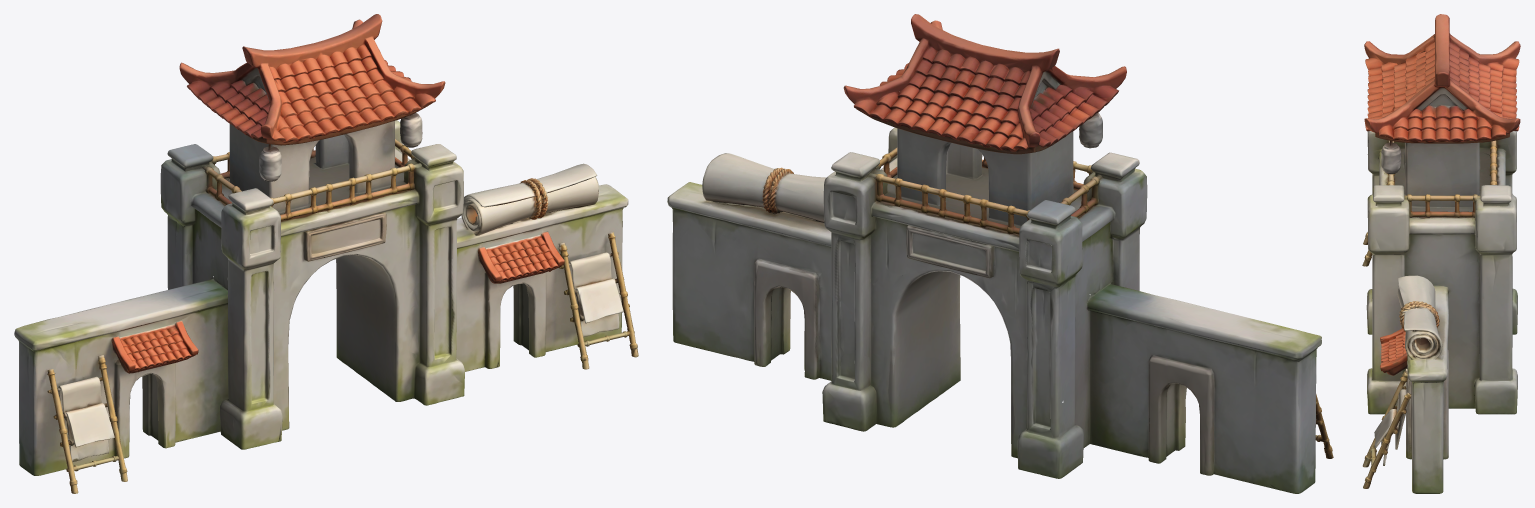
File: cong-lang-giay.084fe5e2.glb
3 views of the same model, side by side, from view 1: azimuth 30°, elevation 25°; view 2: azimuth 150°, elevation 25°; view 3: azimuth 270°, elevation 25° (orthographic). The views are drawn at different scales.
Visible parts, largest first — view 1: tripo_node_a24edd46-532c-49d4-b4dc-27e4c0dc1a52; view 2: tripo_node_a24edd46-532c-49d4-b4dc-27e4c0dc1a52; view 3: tripo_node_a24edd46-532c-49d4-b4dc-27e4c0dc1a52.
Boxes of the visible parts, left/top/right/bottom form: tripo_node_a24edd46-532c-49d4-b4dc-27e4c0dc1a52: left=14, top=14, right=638, bottom=493; tripo_node_a24edd46-532c-49d4-b4dc-27e4c0dc1a52: left=667, top=14, right=1333, bottom=493; tripo_node_a24edd46-532c-49d4-b4dc-27e4c0dc1a52: left=1362, top=14, right=1520, bottom=493.
Bounding box in the file's own units: 0.9799 × 0.5679 × 0.2522.
Materials: 1 (1 with a texture image).
